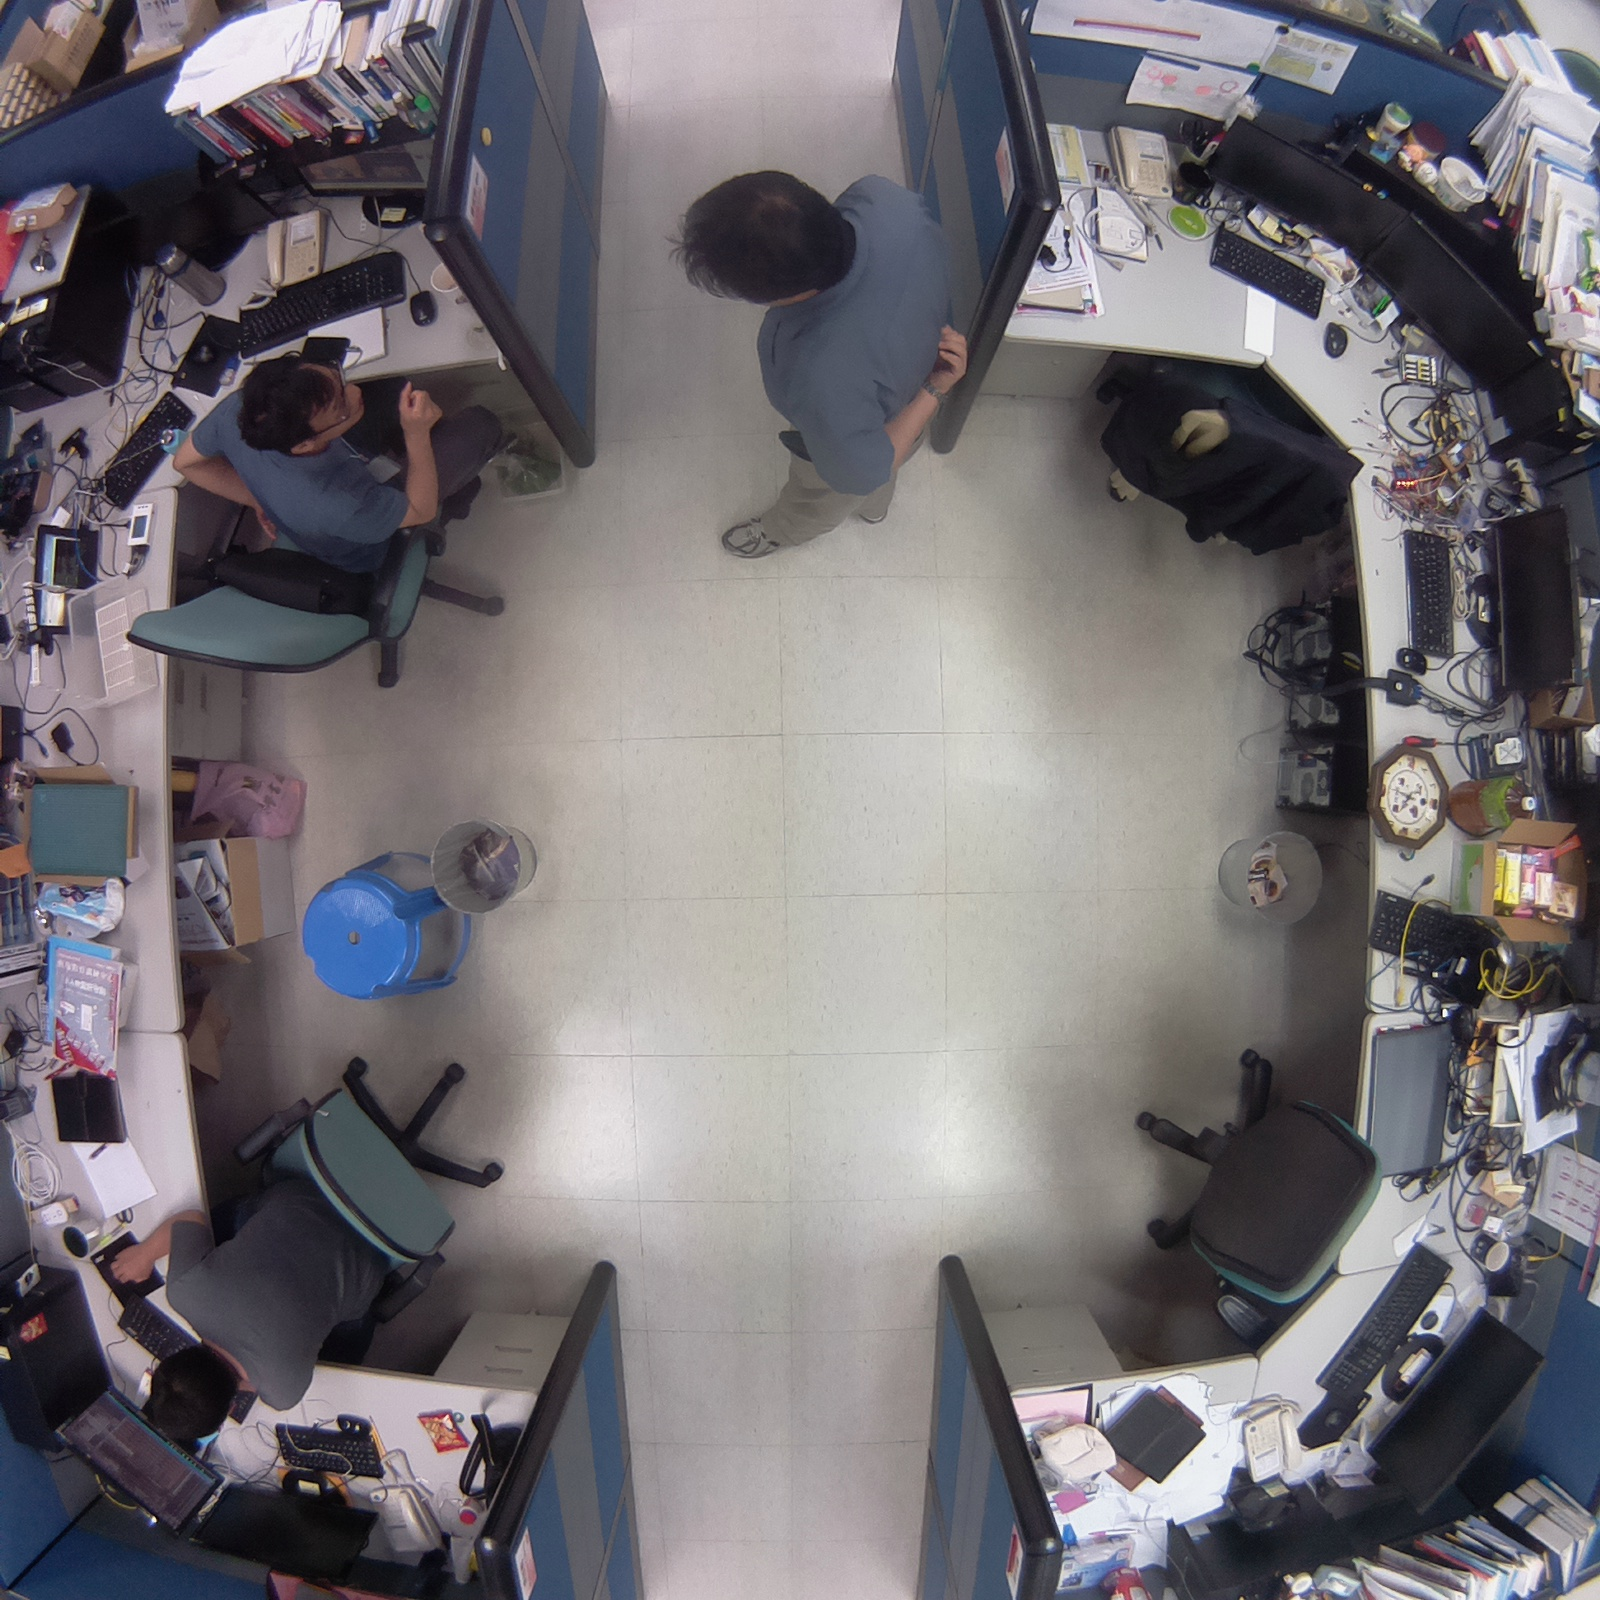chair: (1117, 1027, 1388, 1360), (1083, 334, 1373, 583)
head: (664, 163, 864, 320), (235, 351, 366, 457), (135, 1341, 243, 1445)
sitting: (93, 1034, 517, 1447), (114, 349, 514, 711)
standing: (655, 157, 988, 577)
